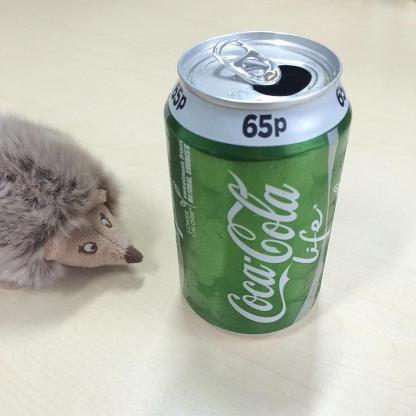Can: (163, 24, 361, 338)
